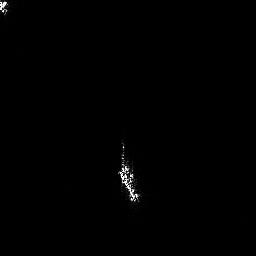ship: (115, 141, 144, 203)
